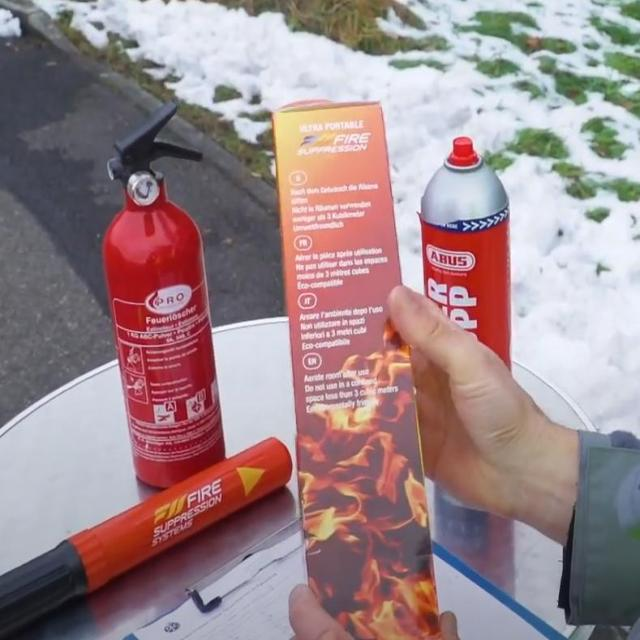fire_extinguisher: (94, 99, 235, 500), (415, 120, 522, 511)
